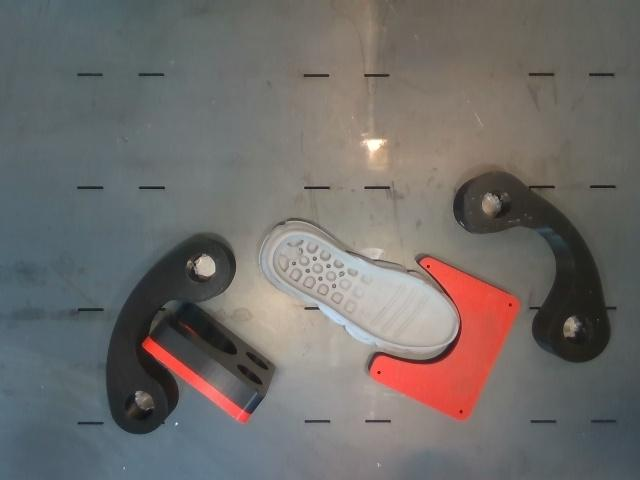shoes: (271, 233, 456, 350)
